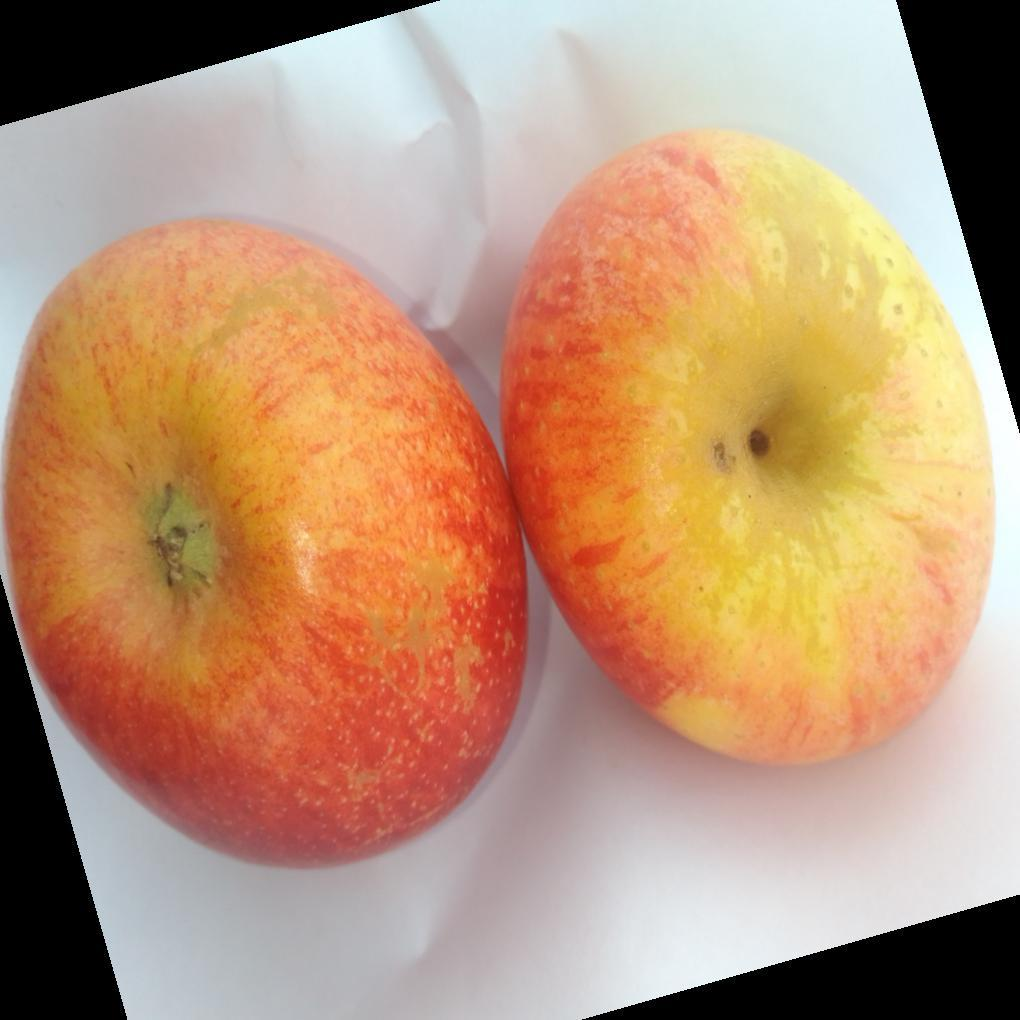FreshGuava: (0, 128, 998, 874)
